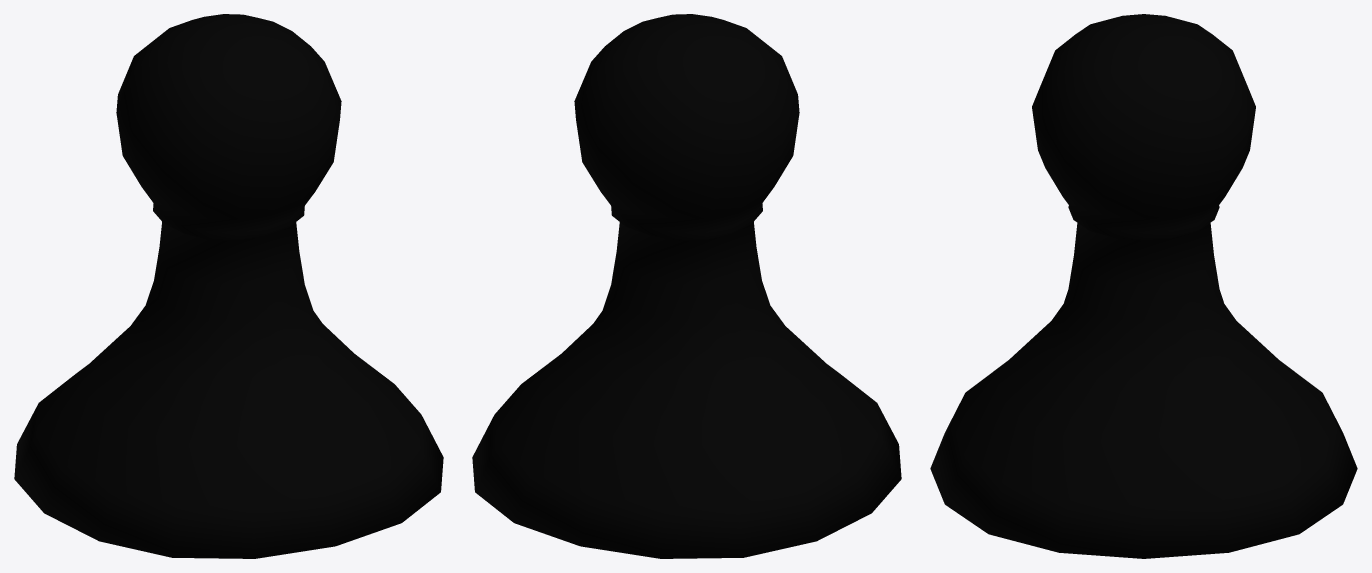
File: Piao.fbx
The picture shows the model from 3 angles, left to right: view 1: azimuth 30°, elevation 25°; view 2: azimuth 150°, elevation 25°; view 3: azimuth 270°, elevation 25°; orthographic projection.
Visible parts, largest first — view 1: Cube; view 2: Cube; view 3: Cube.
Part boxes in pixels (x1,y1,x2,y2): Cube: (14, 14, 443, 558); Cube: (472, 14, 901, 558); Cube: (930, 14, 1357, 558).
Bounding box in the file's own units: 132 × 152 × 132.
